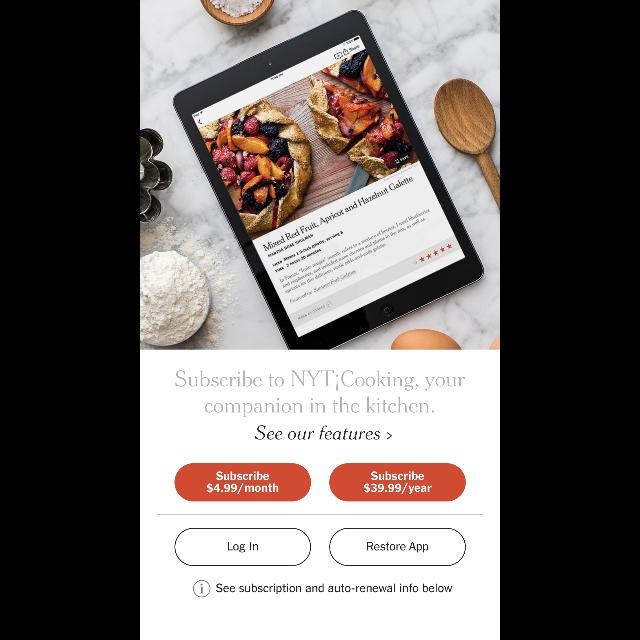icon: (193, 580, 210, 598), (388, 432, 392, 440)
image: (140, 1, 500, 350)
text: (175, 369, 465, 416), (216, 584, 452, 594), (256, 426, 380, 440)
textbutton: (175, 463, 311, 501), (330, 463, 466, 501), (330, 528, 466, 566), (175, 528, 311, 566)
